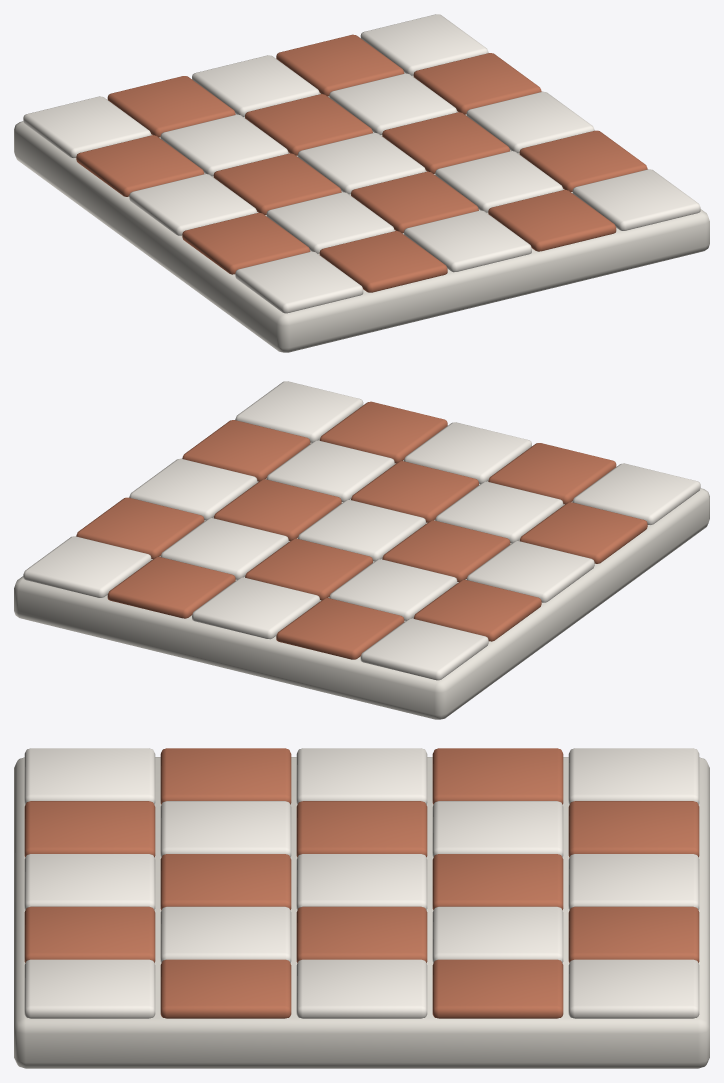
File: vintage_bedspread_01.glb
3 views of the same model, one above another, from view 1: azimuth 30°, elevation 25°; view 2: azimuth 150°, elevation 25°; view 3: azimuth 270°, elevation 25° (orthographic). The views are drawn at different scales.
Visible parts, largest first — view 1: vintage_bedspread_01; view 2: vintage_bedspread_01; view 3: vintage_bedspread_01.
Boxes of the visible parts, box(x1,y1,x2,y2) form: vintage_bedspread_01: box(14, 14, 709, 352); vintage_bedspread_01: box(14, 381, 709, 719); vintage_bedspread_01: box(14, 748, 709, 1068).
Size of the model in its own units: 1.62 by 0.17 by 1.76.
